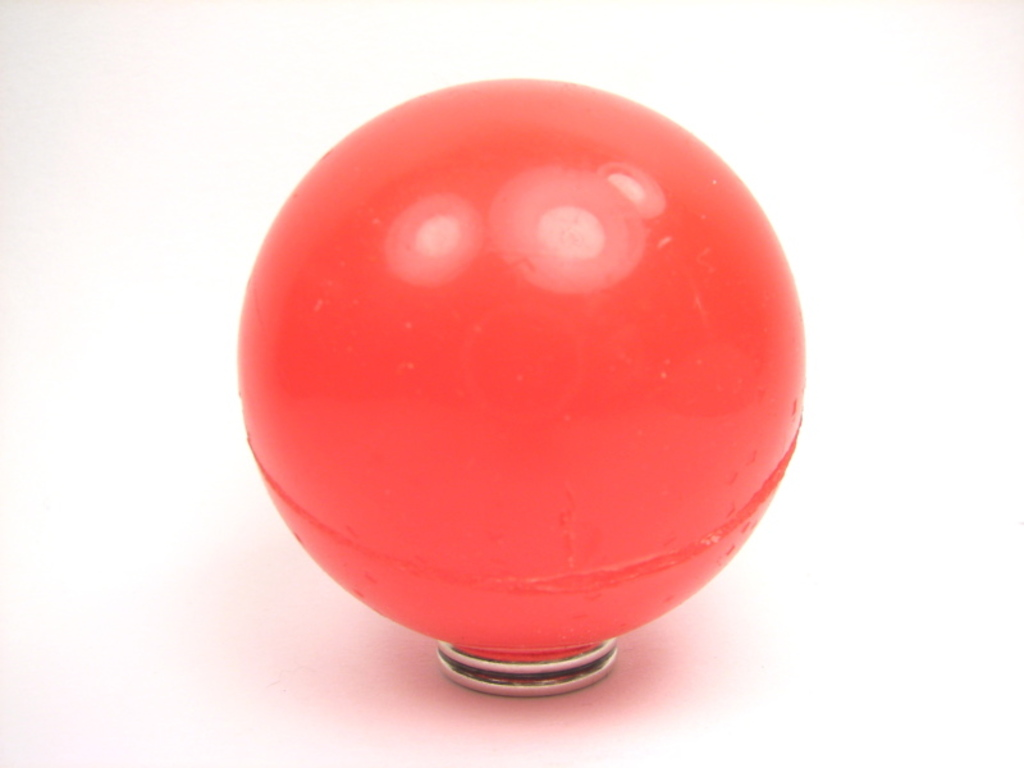Ball: (237, 78, 800, 650)
